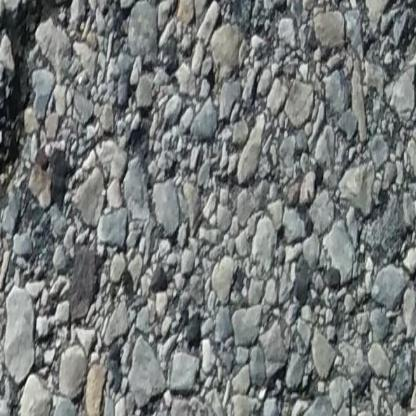Cracks: (0, 0, 70, 222)
